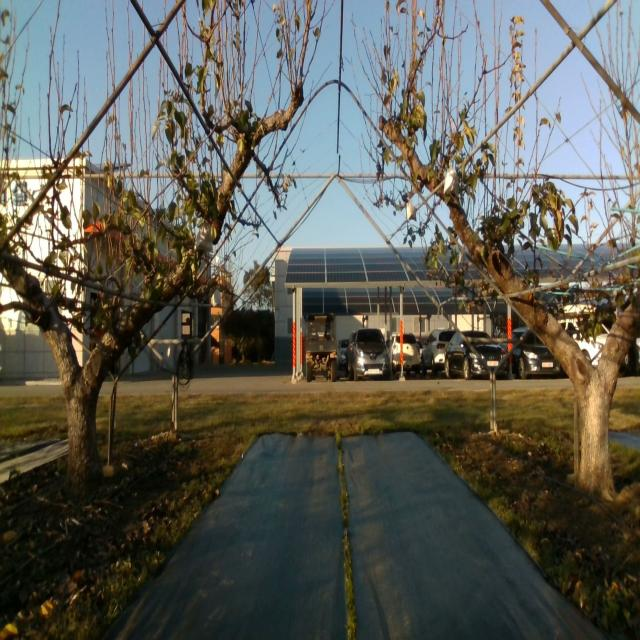pearbags: (196, 222, 213, 253), (444, 163, 458, 195)
